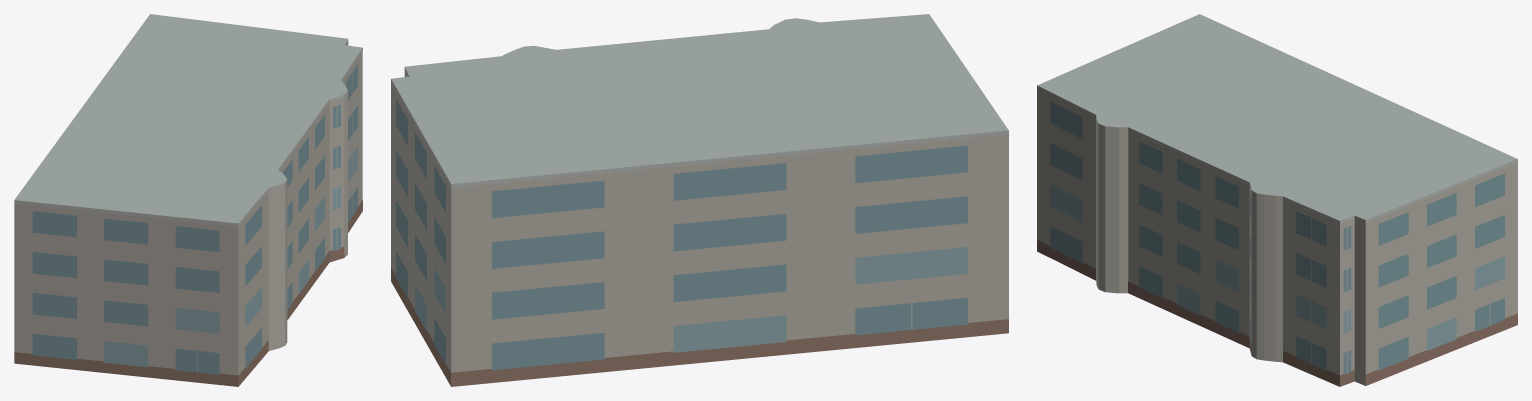
Rendered from survey-upis-32839781.glb.
3 renders of one model, left to right at view 1: azimuth 30°, elevation 25°; view 2: azimuth 150°, elevation 25°; view 3: azimuth 270°, elevation 25°, orthographic. The views are drawn at different scales.
Visible parts, largest first — view 1: survey-upis-32839781.tmp; view 2: survey-upis-32839781.tmp; view 3: survey-upis-32839781.tmp.
Boxes of the visible parts, left/top/right/bottom form: survey-upis-32839781.tmp: left=14, top=14, right=362, bottom=386; survey-upis-32839781.tmp: left=391, top=14, right=1008, bottom=386; survey-upis-32839781.tmp: left=1037, top=14, right=1517, bottom=386.
Bounding box in the file's own units: 32.63 × 12.2 × 32.03.
